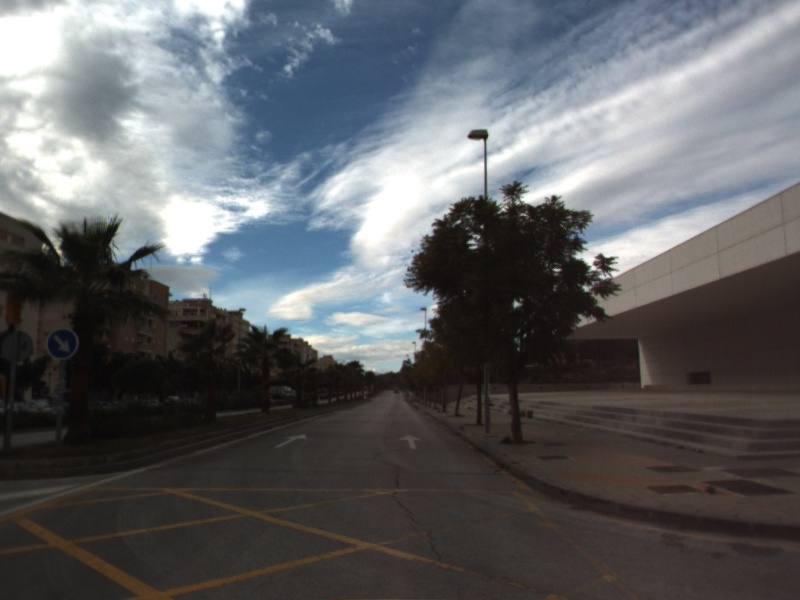STRAIGHT: (272, 431, 309, 450), (397, 433, 424, 451)
